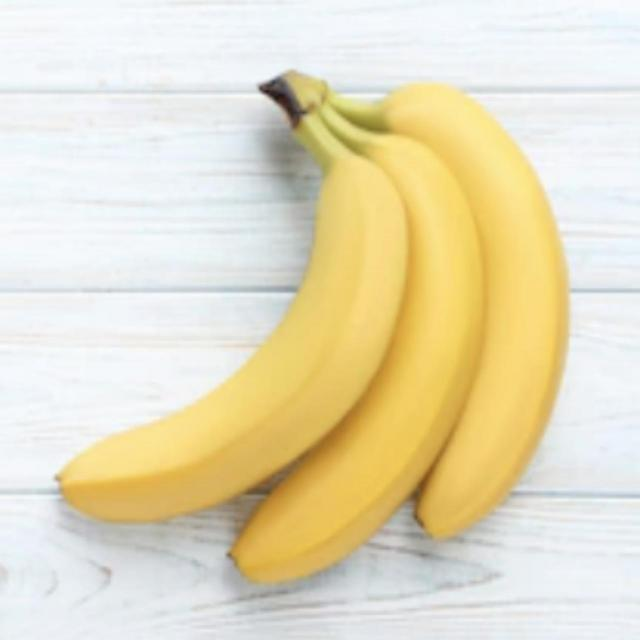banana: (39, 64, 376, 528), (388, 51, 596, 560), (278, 86, 460, 616)
